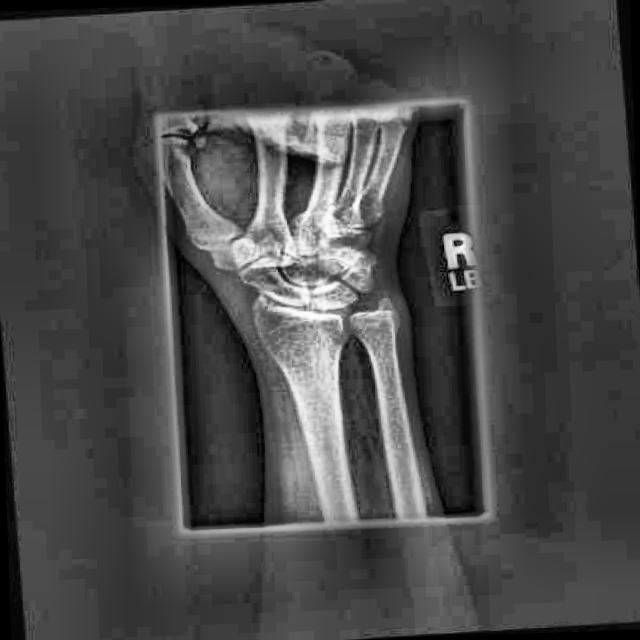fingers positive: (277, 244, 307, 275)
